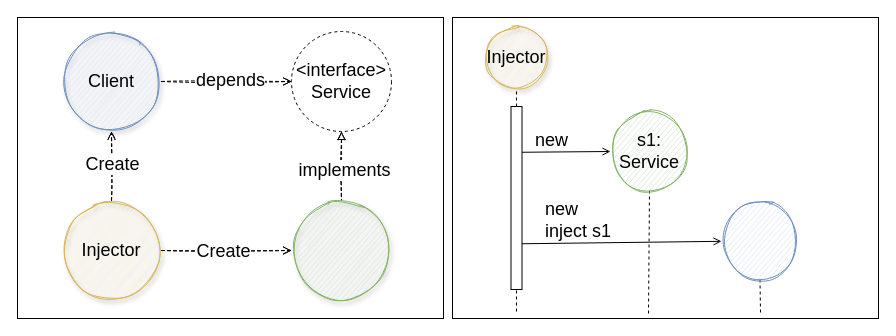
This 896x336 diagram has some shape labels left out. The shapes that lost their labels are listed below. From the top down, each one's centre as x and y in pixels, then its label:
the point at 342,252: Service
the point at 759,241: c: Client
